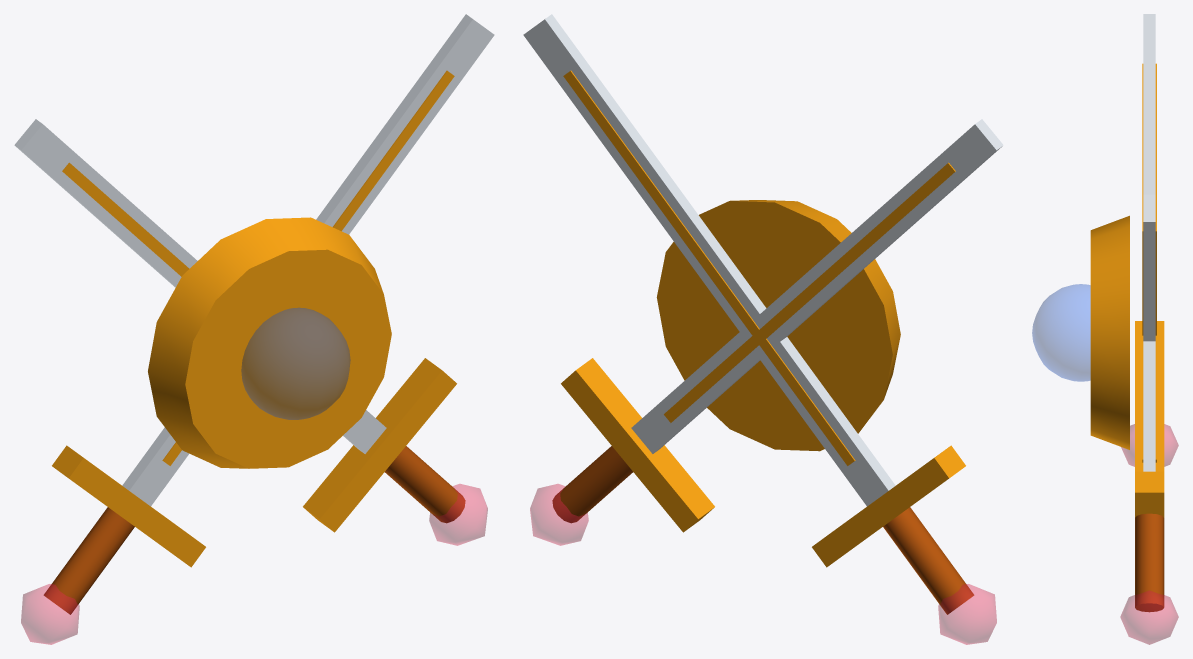
Rendered from swords.glb.
3 renders of one model, left to right at view 1: azimuth 30°, elevation 25°; view 2: azimuth 150°, elevation 25°; view 3: azimuth 270°, elevation 25°, orthographic. The views are drawn at different scales.
Visible parts, largest first — view 1: SwordsModel; view 2: SwordsModel; view 3: SwordsModel.
Boxes of the visible parts, x1,y1,x2,y2 form: SwordsModel: (14,14,494,644); SwordsModel: (523,14,1003,644); SwordsModel: (1032,14,1178,644).
Bounding box in the file's own units: 1.92 × 2.04 × 0.6.
